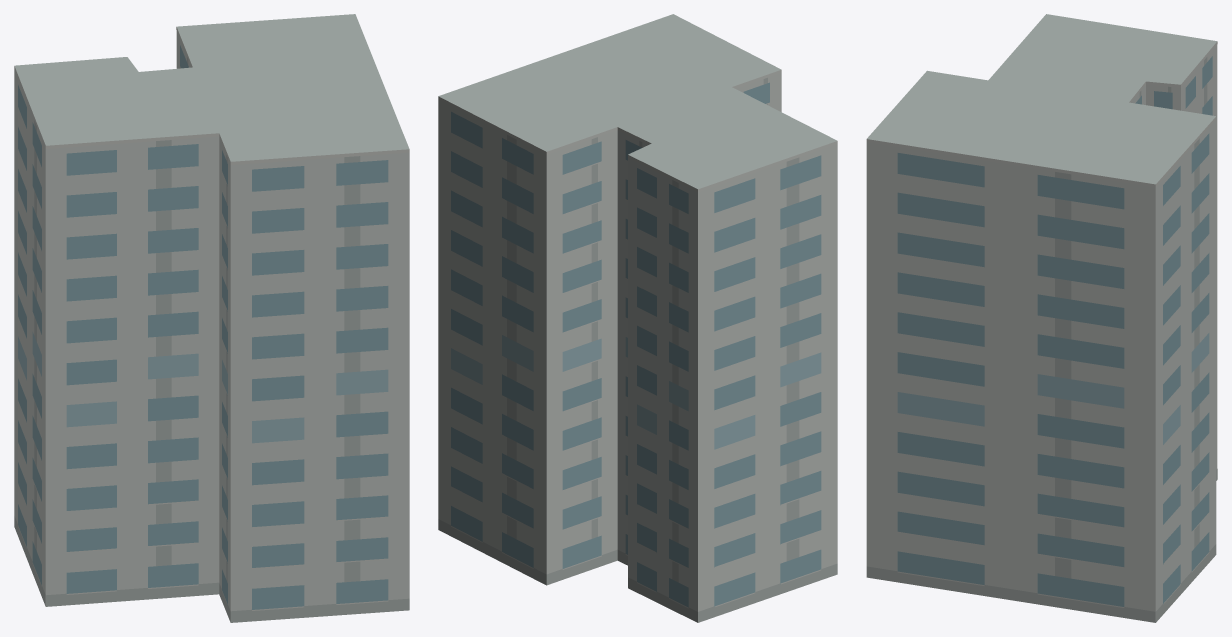
Rendered from survey-upis-32891416.glb.
3 renders of one model, left to right at view 1: azimuth 30°, elevation 25°; view 2: azimuth 150°, elevation 25°; view 3: azimuth 270°, elevation 25°, orthographic. The views are drawn at different scales.
Visible parts, largest first — view 1: survey-upis-32891416.tmp; view 2: survey-upis-32891416.tmp; view 3: survey-upis-32891416.tmp.
Boxes of the visible parts, bbox=[...] form: survey-upis-32891416.tmp: bbox=[14, 14, 409, 622]; survey-upis-32891416.tmp: bbox=[438, 14, 837, 622]; survey-upis-32891416.tmp: bbox=[866, 14, 1217, 622].
Bounding box in the file's own units: 27.97 × 33.55 × 24.34.
